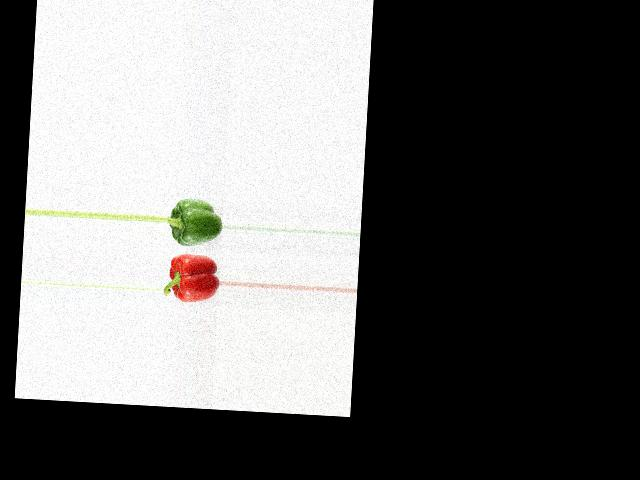bell_pepper: (167, 195, 221, 249)
